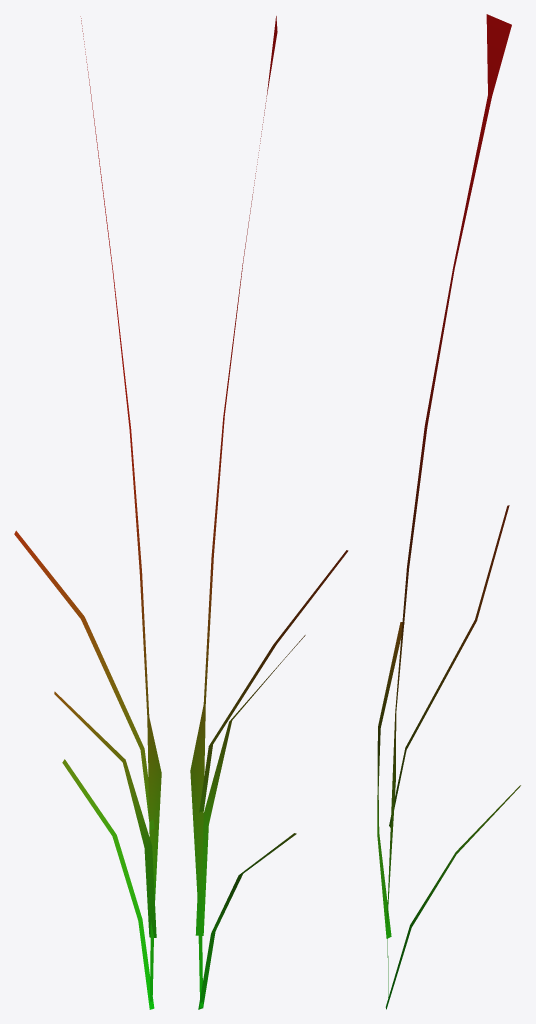
File: Tundra Grass_LOD5_Var36_wk2oaeyqx.fbx
The picture shows the model from 3 angles, left to right: view 1: azimuth 30°, elevation 25°; view 2: azimuth 210°, elevation 25°; view 3: azimuth 270°, elevation 25°; orthographic projection. The views are drawn at different scales.
Parts seen in each view (by area): view 1: _kpnm_Var36_LOD5; view 2: _kpnm_Var36_LOD5; view 3: _kpnm_Var36_LOD5.
Boxes of the visible parts, x1,y1,x2,y2 form: _kpnm_Var36_LOD5: (14, 16, 161, 1009); _kpnm_Var36_LOD5: (190, 16, 348, 1009); _kpnm_Var36_LOD5: (377, 14, 520, 1009).
Size of the model in its own units: 4.73 by 41.17 by 5.48.
